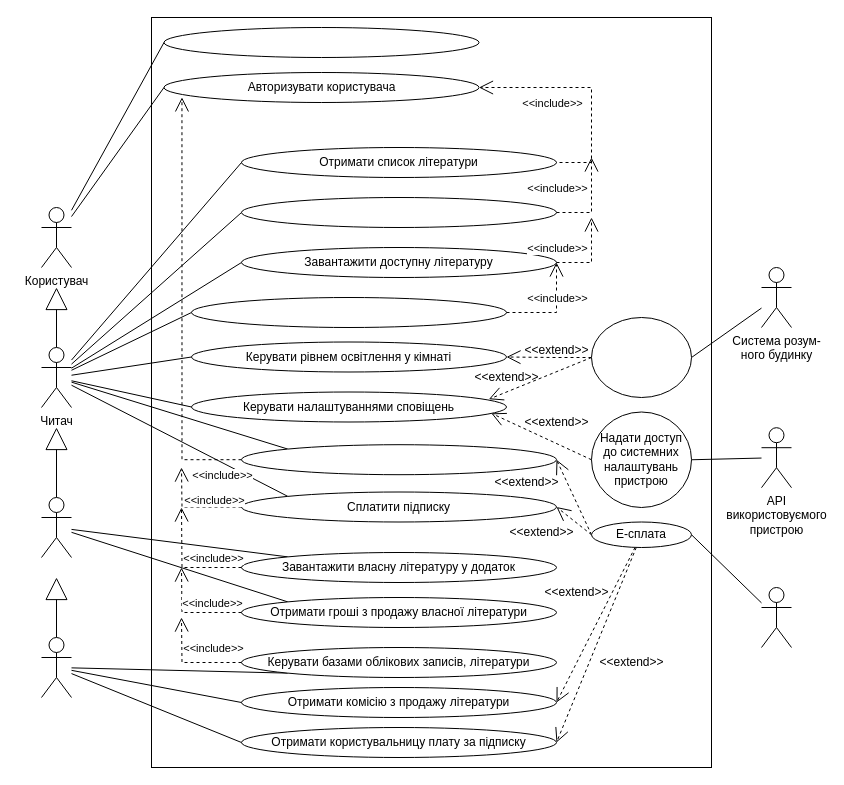
Some shapes in this 844 by 785 pixel diagram are drawn without their labels. The shapes that lost their labels are listed below. From the top down, each one's centre as x and y in pixels, then its label:
At pixel 321 42: "Створити обліковий запис".
At pixel 398 212: "Читати літературу онлайн".
At pixel 348 312: "Читати завантажену літературу".
At pixel 641 357: "Інтегрувати систему розумного будинку".
At pixel 398 459: "Придбати платну літературу".
At pixel 56 527: "Автор".
At pixel 776 617: "Сервіс E-Pay".
At pixel 56 667: "Адміністратор".
